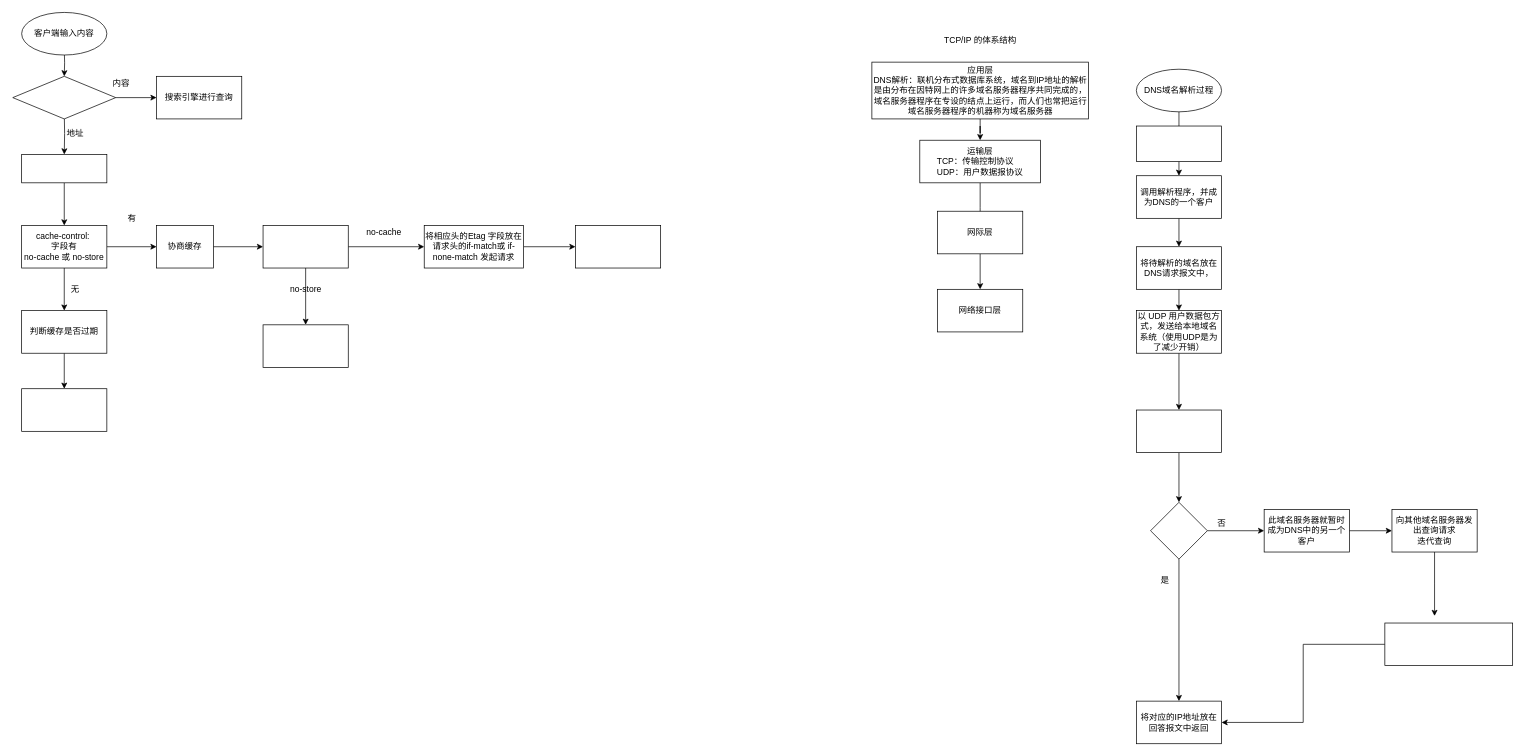
This 1525x756 diagram has some shape labels left out. The shapes that lost their labels are listed below. From the top down, each one's centre as x and y in pixels, then its label:
At (x=64, y=97): "是地址还是查询内容".
At (x=1179, y=143): "一个应用程序需要把主机名解析为IP地址".
At (x=64, y=168): "DNS解析".
At (x=305, y=246): "cache-control".
At (x=64, y=409): "响应头的 age 和 max-age".
At (x=1179, y=431): "本地域名服务器在数据库查找".
At (x=1178, y=530): "找到 域名对应的IP地址".
At (x=1448, y=644): "迭代查询，直至找到域名对应的IP地址".
